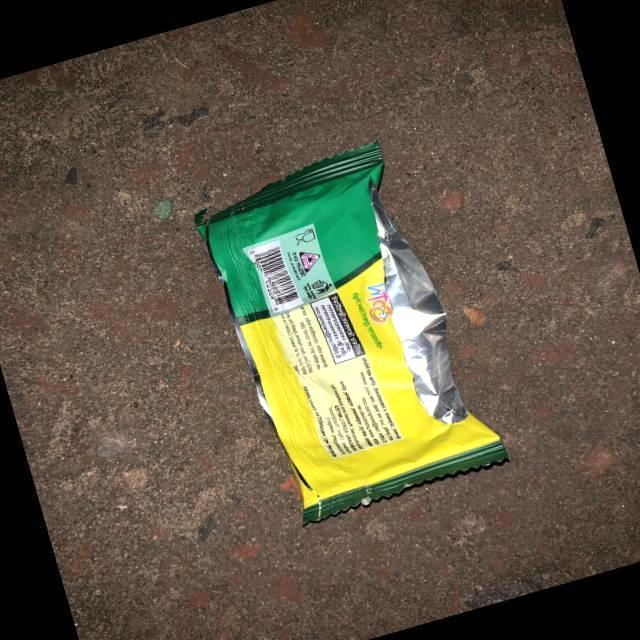packet: (196, 142, 500, 535)
